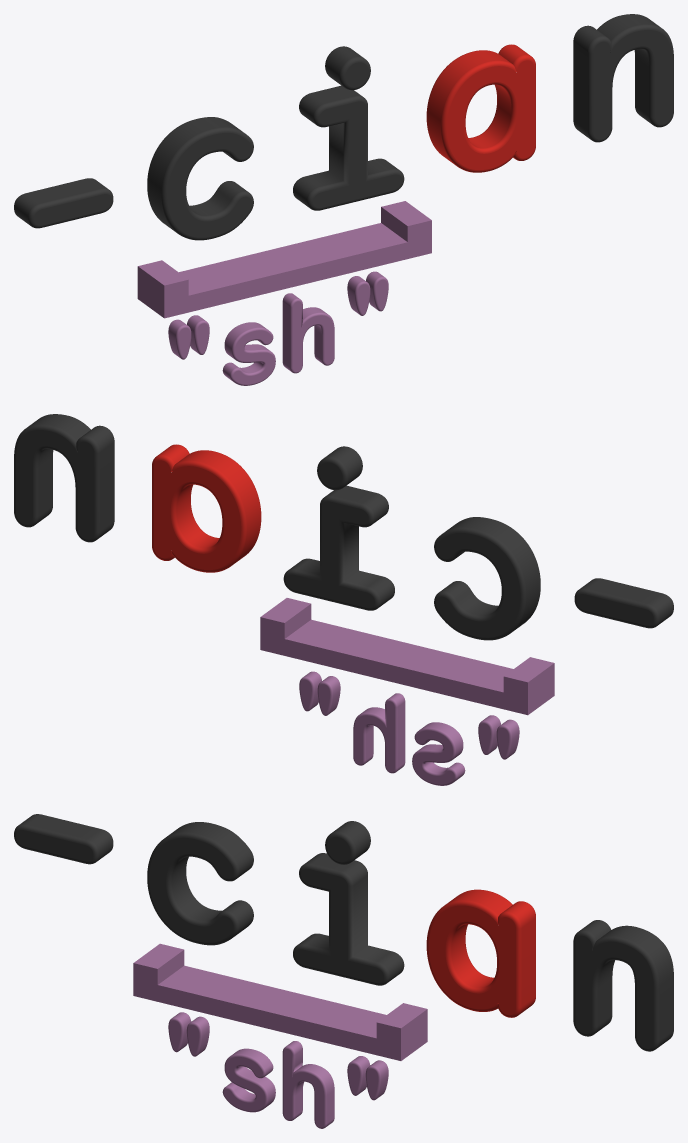
File: -cian.gltf
3 views of the same model, one above another, from view 1: azimuth 30°, elevation 25°; view 2: azimuth 150°, elevation 25°; view 3: azimuth 330°, elevation 25° (orthographic).
Parts seen in each view (by area): view 1: Cube.000, Text.005, Text.003, Text.002, Text, Text.001; view 2: Cube.000, Text.005, Text.003, Text.002, Text, Text.001; view 3: Cube.000, Text.005, Text.003, Text.002, Text, Text.001.
Boxes of the visible parts, <box> form: Cube.000: <box>137,201,431,318</box>; Text.005: <box>14,117,253,240</box>; Text.003: <box>426,44,535,172</box>; Text.002: <box>573,14,673,142</box>; Text: <box>293,46,404,210</box>; Text.001: <box>168,271,388,385</box>; Cube.000: <box>260,598,554,715</box>; Text.005: <box>434,517,673,640</box>; Text.003: <box>152,444,261,572</box>; Text.002: <box>14,414,114,542</box>; Text: <box>283,446,394,610</box>; Text.001: <box>299,671,519,785</box>; Cube.000: <box>133,943,427,1060</box>; Text.005: <box>14,814,253,945</box>; Text.003: <box>426,889,535,1017</box>; Text.002: <box>573,920,673,1051</box>; Text: <box>293,821,404,985</box>; Text.001: <box>168,1012,388,1128</box>.
Size of the model in its own units: 2.68 by 1.21 by 0.1906.
